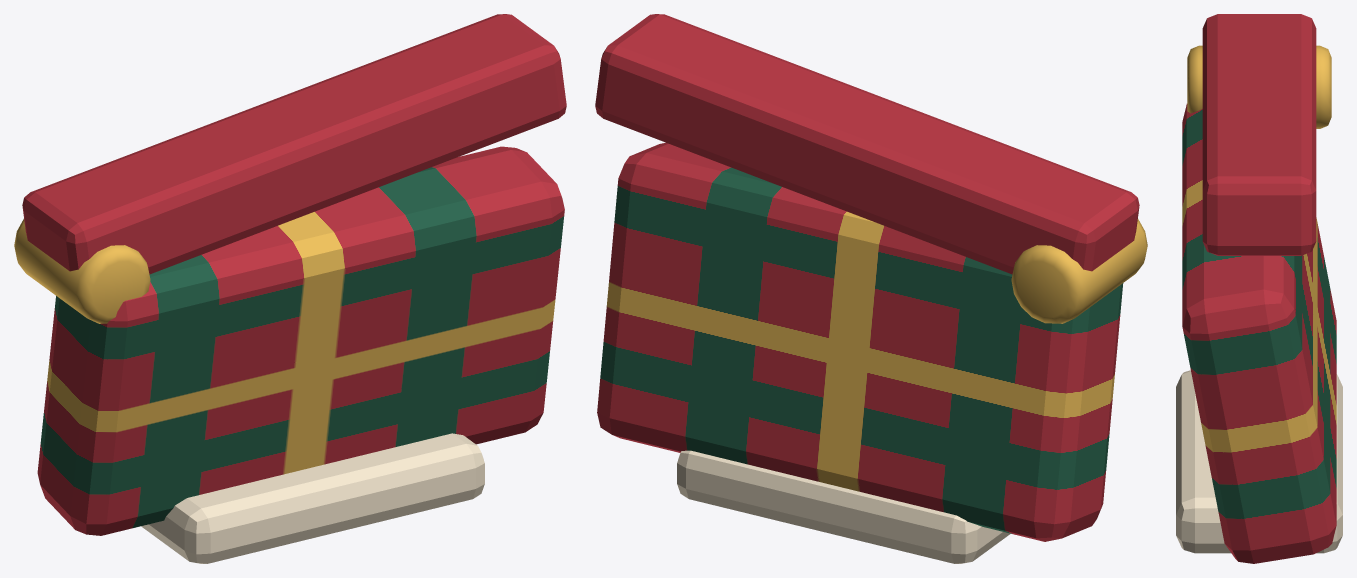
File: ACC_TH_CINEMA_Primary.fbx
The picture shows the model from 3 angles, left to right: view 1: azimuth 30°, elevation 25°; view 2: azimuth 150°, elevation 25°; view 3: azimuth 270°, elevation 25°; orthographic projection.
Parts seen in each view (by area): view 1: ACC_TH_CINEMA_Primary; view 2: ACC_TH_CINEMA_Primary; view 3: ACC_TH_CINEMA_Primary.
Boxes of the visible parts, x1,y1,x2,y2 form: ACC_TH_CINEMA_Primary: (14, 14, 566, 563); ACC_TH_CINEMA_Primary: (595, 14, 1147, 563); ACC_TH_CINEMA_Primary: (1176, 14, 1342, 563).
Size of the model in its own units: 75.27 by 61.06 by 22.
